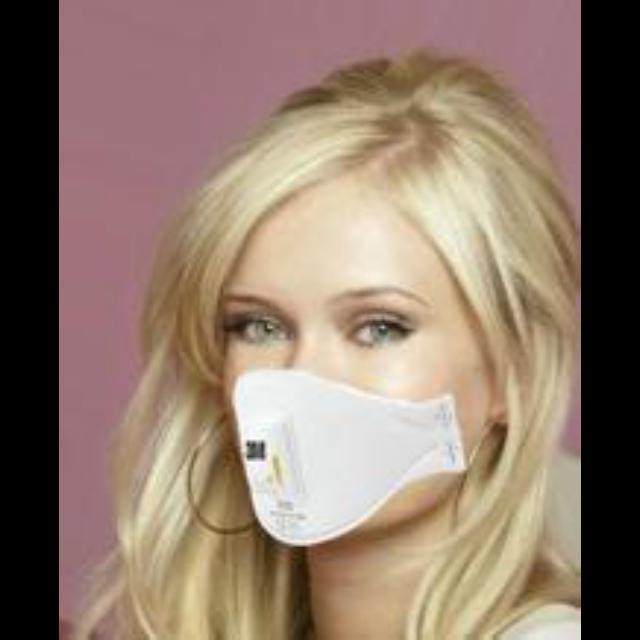suspicion: (204, 135, 503, 543)
